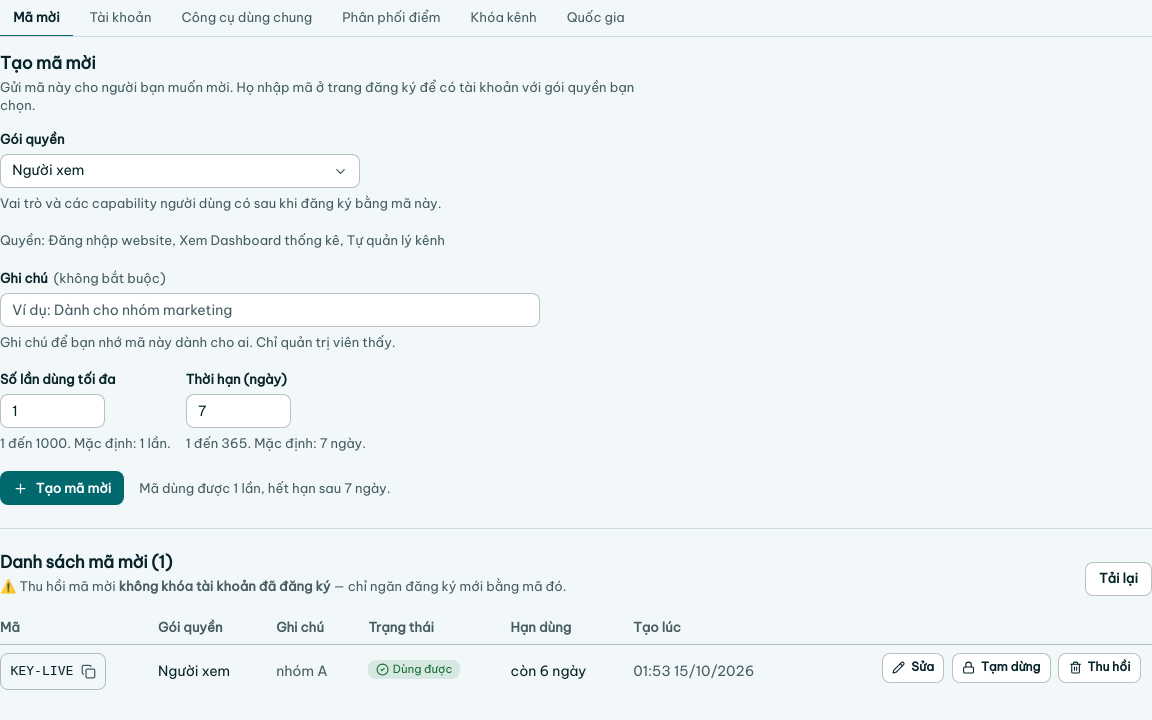
it: AdminPage — mã mời: sao chép, hạn dùng, thu hồi › thu hồi có xác nhận; sau khi thu hồi key bị ẩn, toggle 'Hiện đã thu hồi' mới thấy lại
(page scrolled)
Expected: the button "KEY-LIVE" is shown, [0,653,106,690]
Click the button with aria-label "Thu hồi mã KEY-LIVE" at (1100, 668), box [1058,653,1141,683]
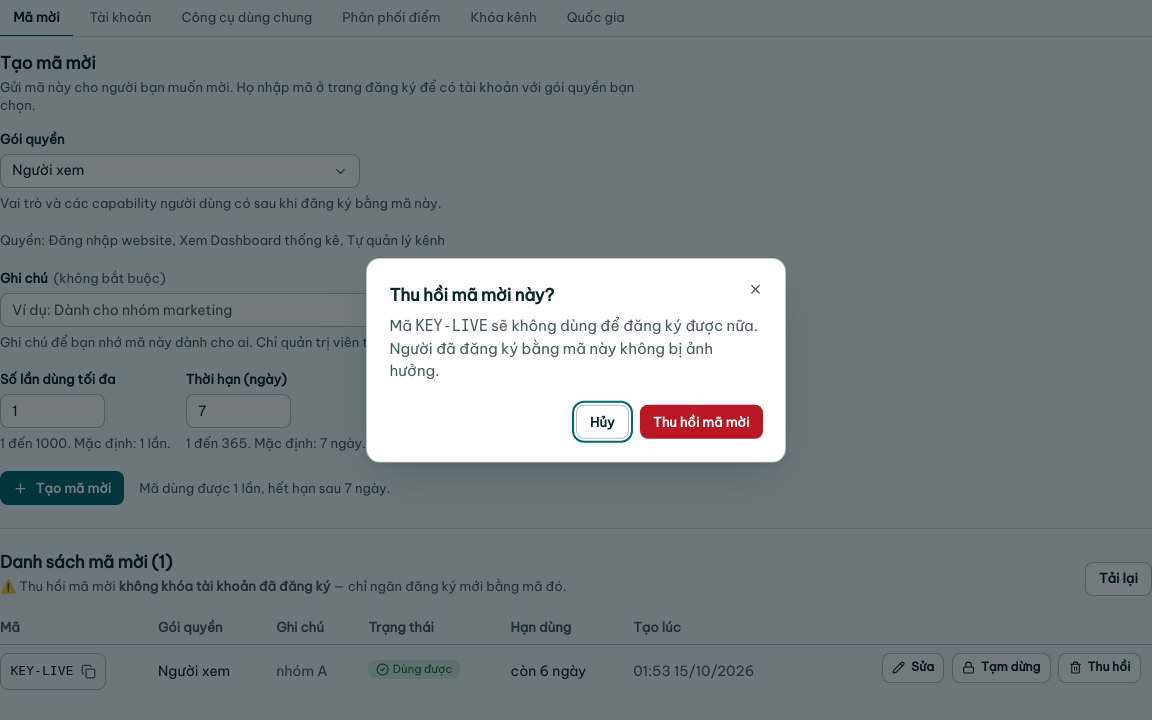
Click the button "Hủy" at (602, 422), box [576,405,629,439]
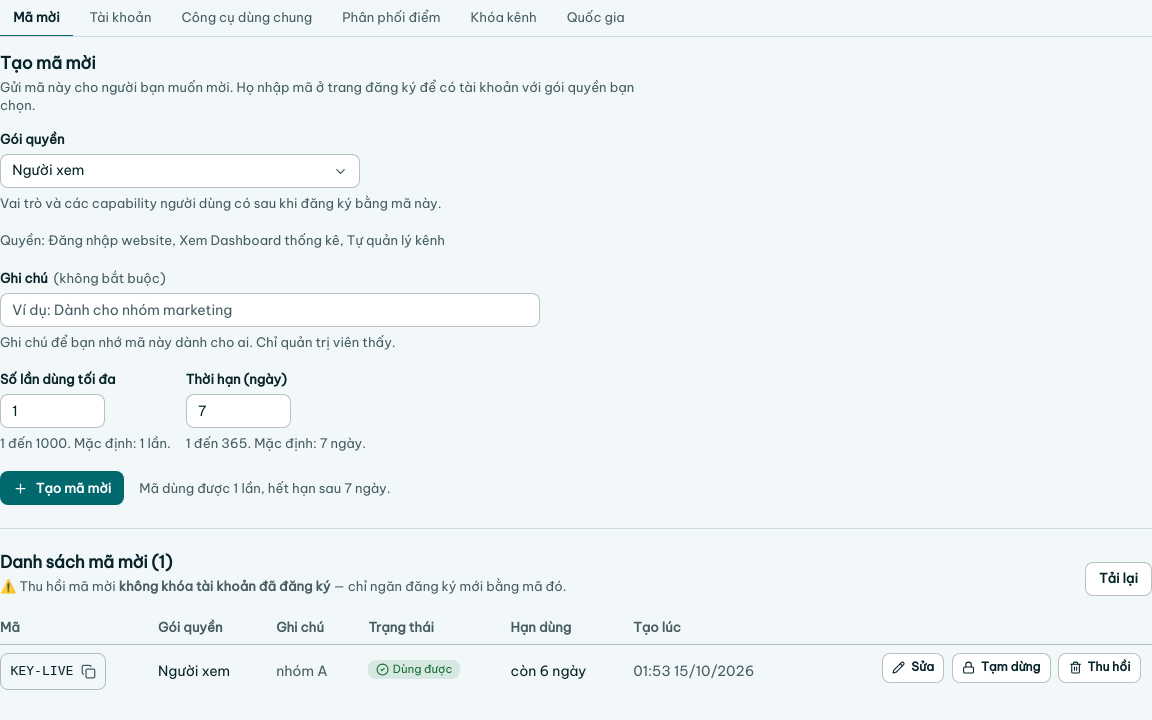
Click the button with aria-label "Thu hồi mã KEY-LIVE" at (1100, 668), box [1058,653,1141,683]
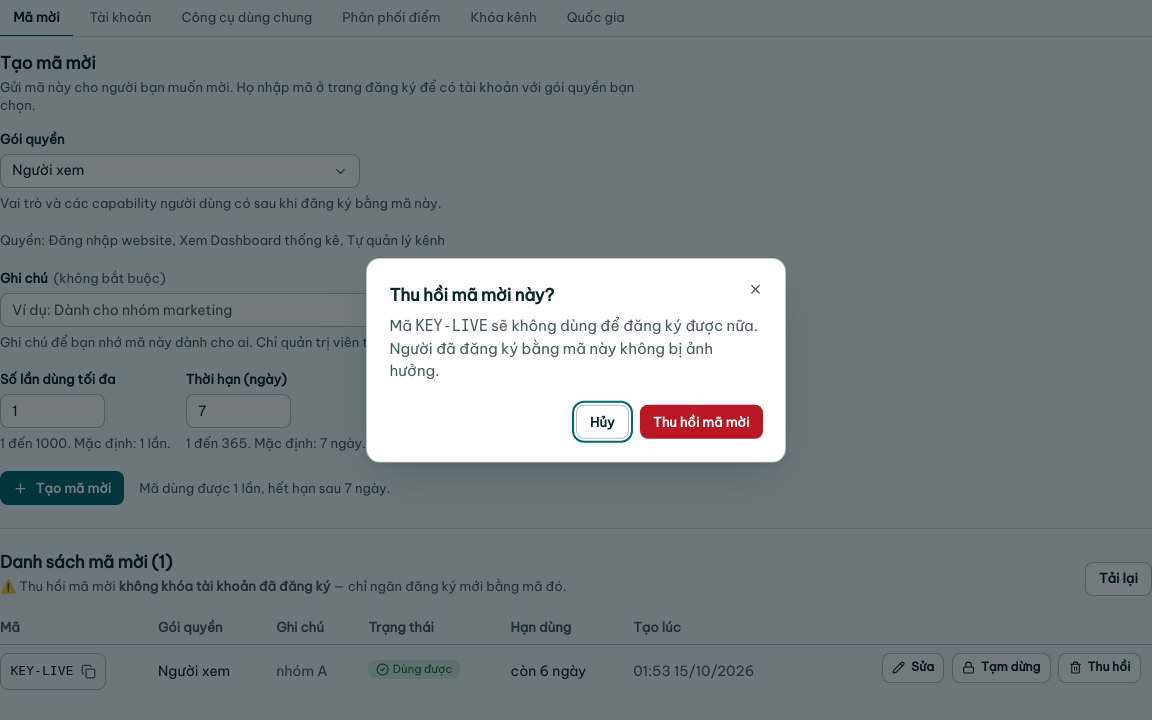
Click the button "Thu hồi mã mời" at (701, 422), box [640,405,762,439]
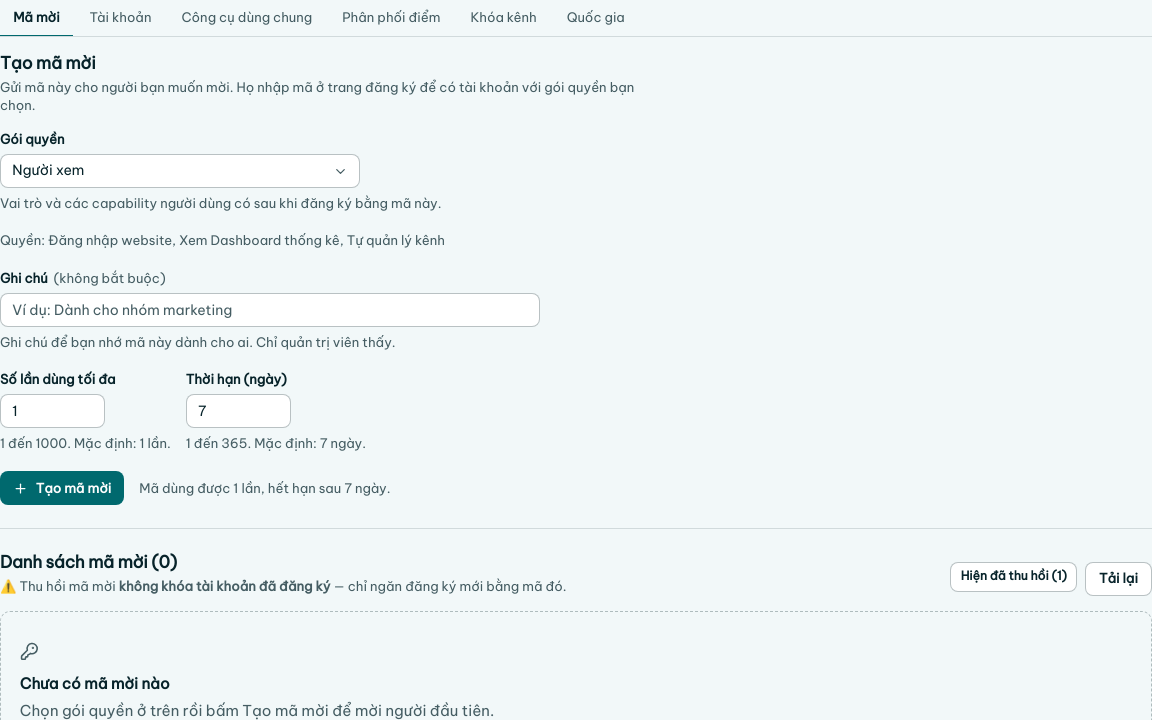
Expected: the button "KEY-LIVE" is gone
toggle "Hiện đã thu hồi" → key quay lại với trạng thái Đã thu hồi
Click the button "Hiện đã thu hồi (1)" at (1014, 577), box [950,562,1077,592]
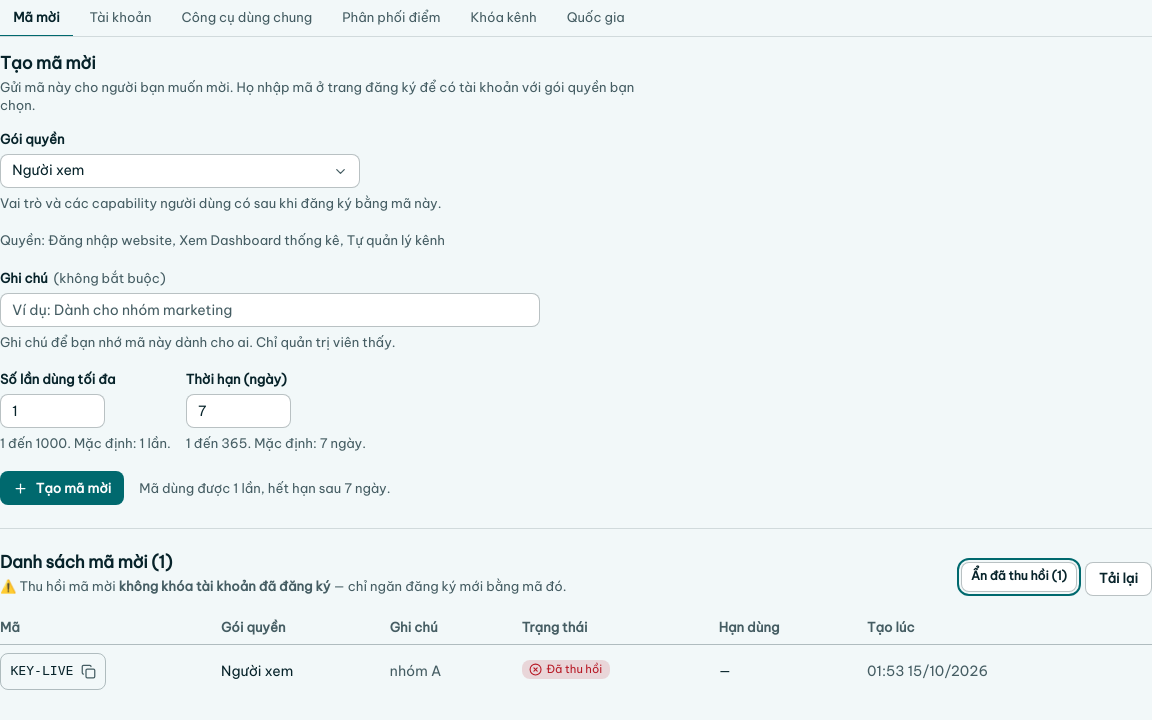
Expected: the button "KEY-LIVE" is shown, [0,653,106,690]
Expected: the text "Đã thu hồi" is shown, [522,660,610,679]
